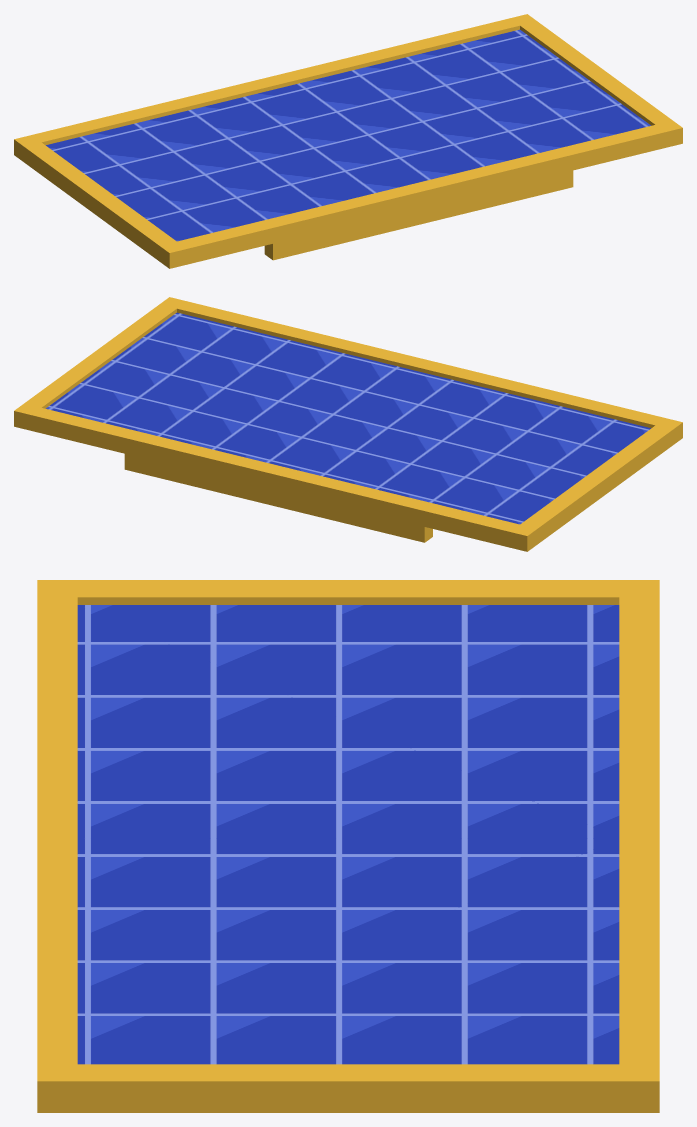
The model's file is Solar 2.fbx.
The picture shows the model from 3 angles, top to bottom: view 1: azimuth 30°, elevation 25°; view 2: azimuth 150°, elevation 25°; view 3: azimuth 270°, elevation 25°; orthographic projection. The views are drawn at different scales.
Parts seen in each view (by area): view 1: Solar 2; view 2: Solar 2; view 3: Solar 2.
Part boxes in pixels (bbox=[...]): Solar 2: bbox=[14, 14, 682, 268]; Solar 2: bbox=[14, 297, 682, 551]; Solar 2: bbox=[37, 580, 659, 1112].
Size of the model in its own units: 18.98 by 1.26 by 9.96.
